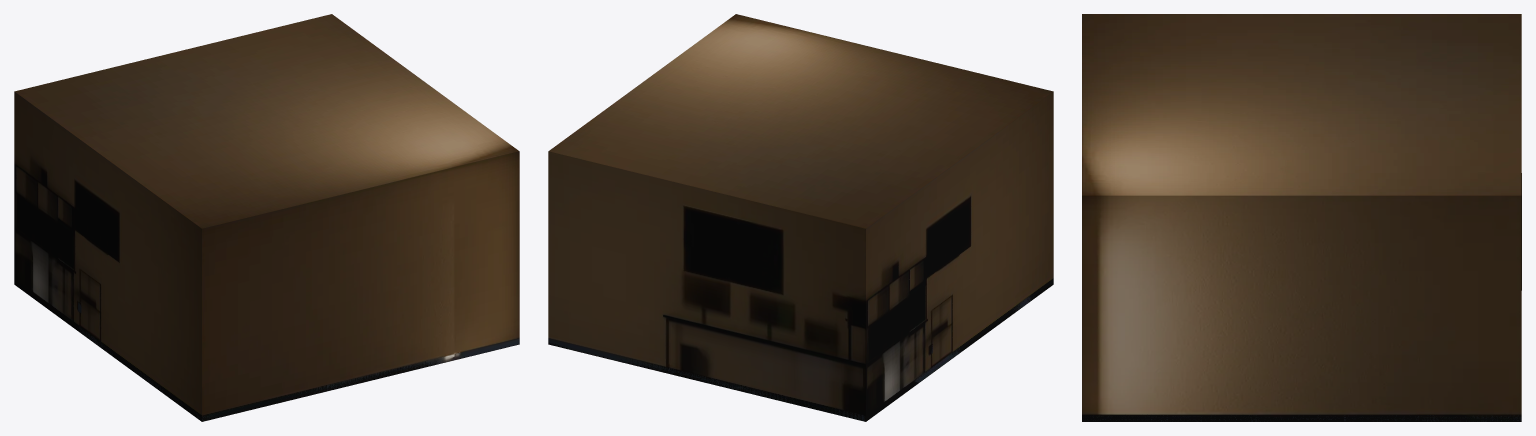
The model's file is room-lite.glb.
3 views of the same model, side by side, from view 1: azimuth 30°, elevation 25°; view 2: azimuth 150°, elevation 25°; view 3: azimuth 270°, elevation 25° (orthographic). The views are drawn at different scales.
Parts seen in each view (by area): view 1: baked_room; view 2: baked_room; view 3: baked_room.
Boxes of the visible parts, x1,y1,x2,y2 form: baked_room: (14,14,519,421); baked_room: (548,14,1053,421); baked_room: (1082,14,1521,421).
Bounding box in the file's own units: 4.3 × 2.5 × 4.4.
Materials: 15 (3 with a texture image).
